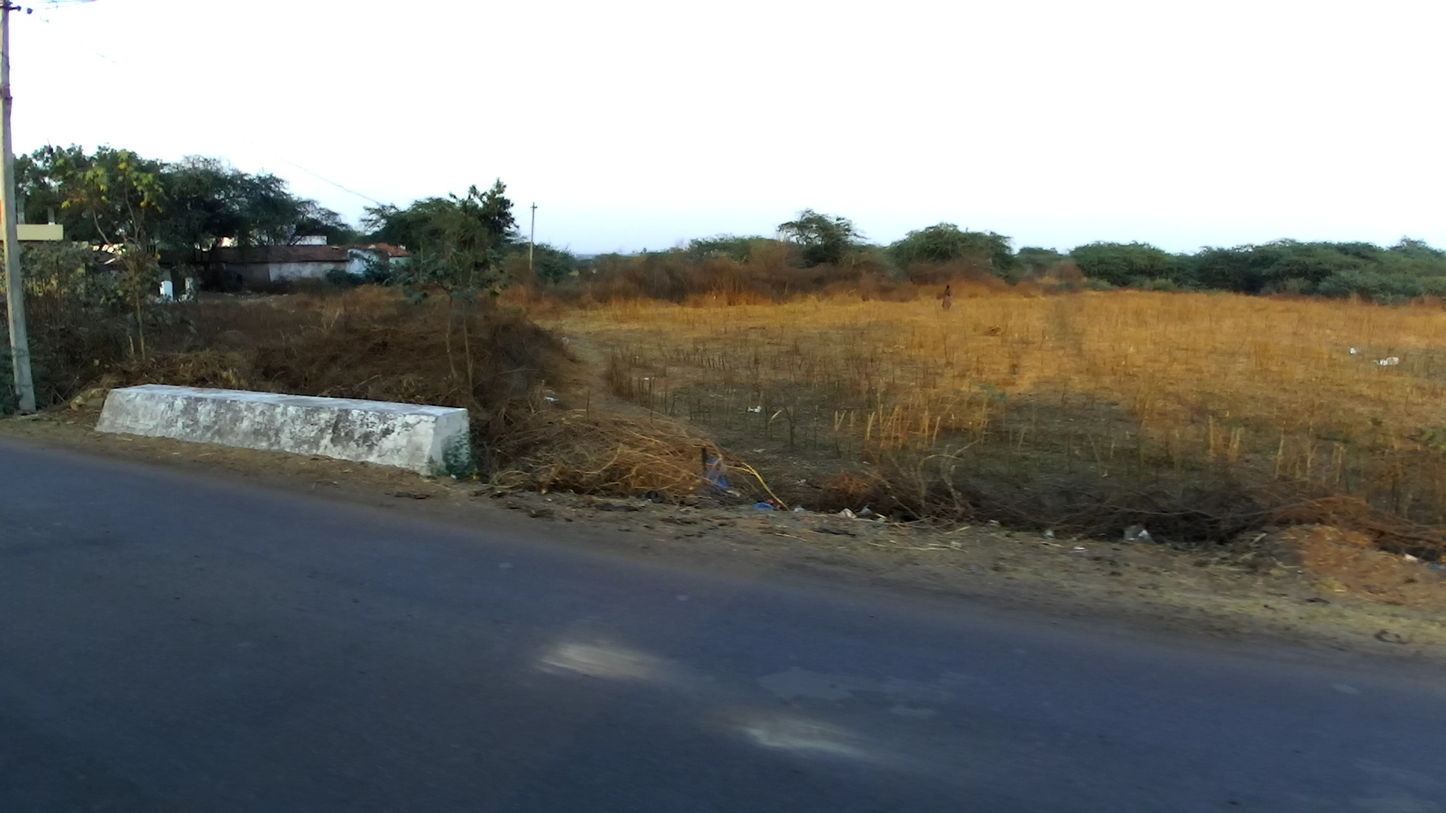person: (941, 288, 953, 312)
